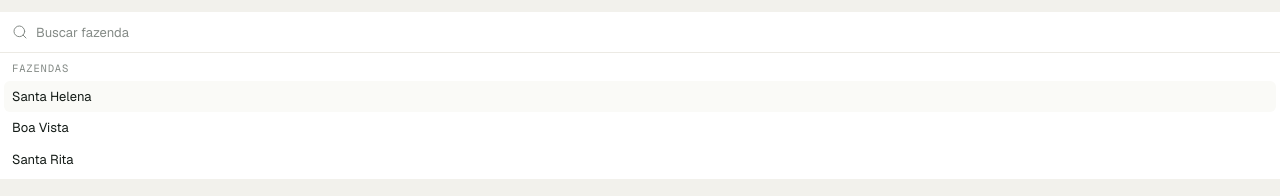
Test case: Command › sem resultado, mostra o vazio
Type "xyz" into the dropdown with placeholder "Buscar fazenda" at [652, 32], box 36,12 -> 1268,52
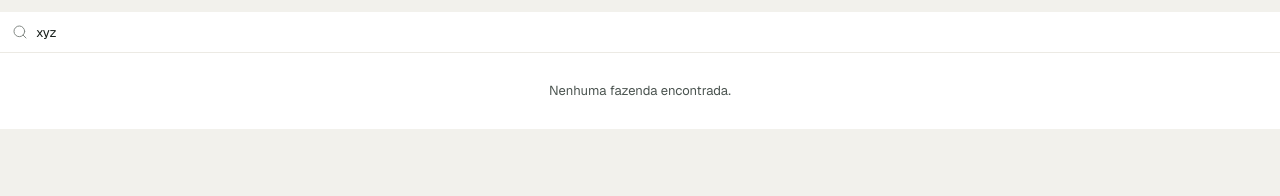
Expected: the text "Nenhuma fazenda encontrada." is shown, 549,82 -> 731,99
